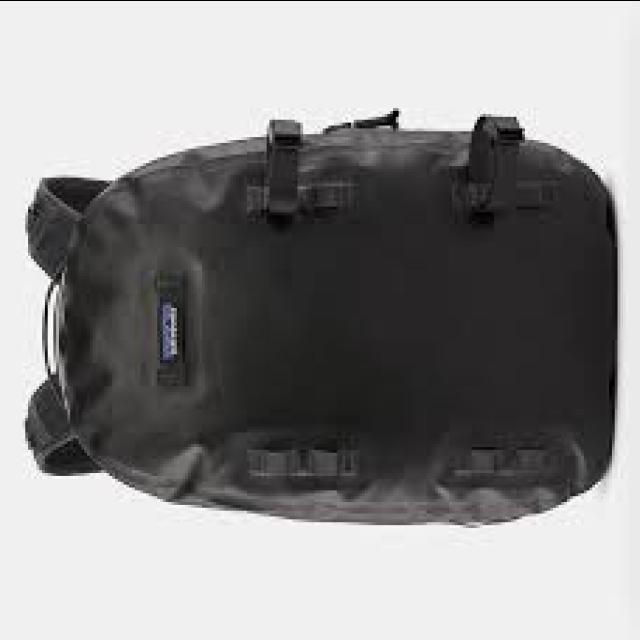backpack: (21, 111, 619, 531)
